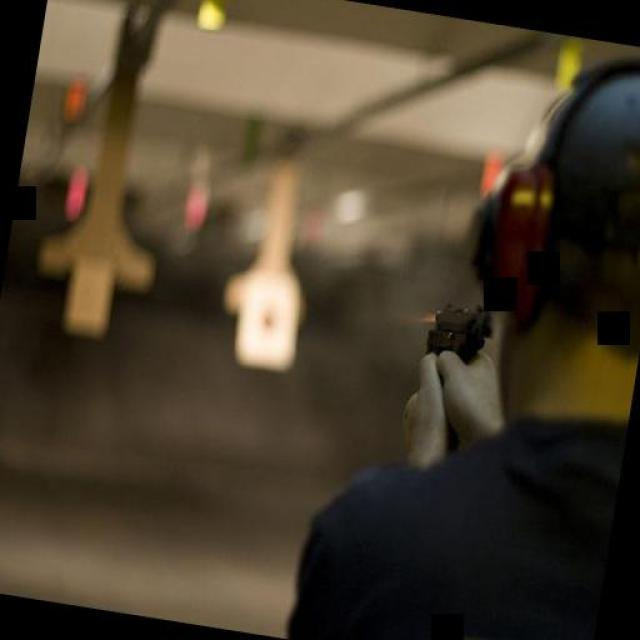gun: (407, 296, 495, 460)
